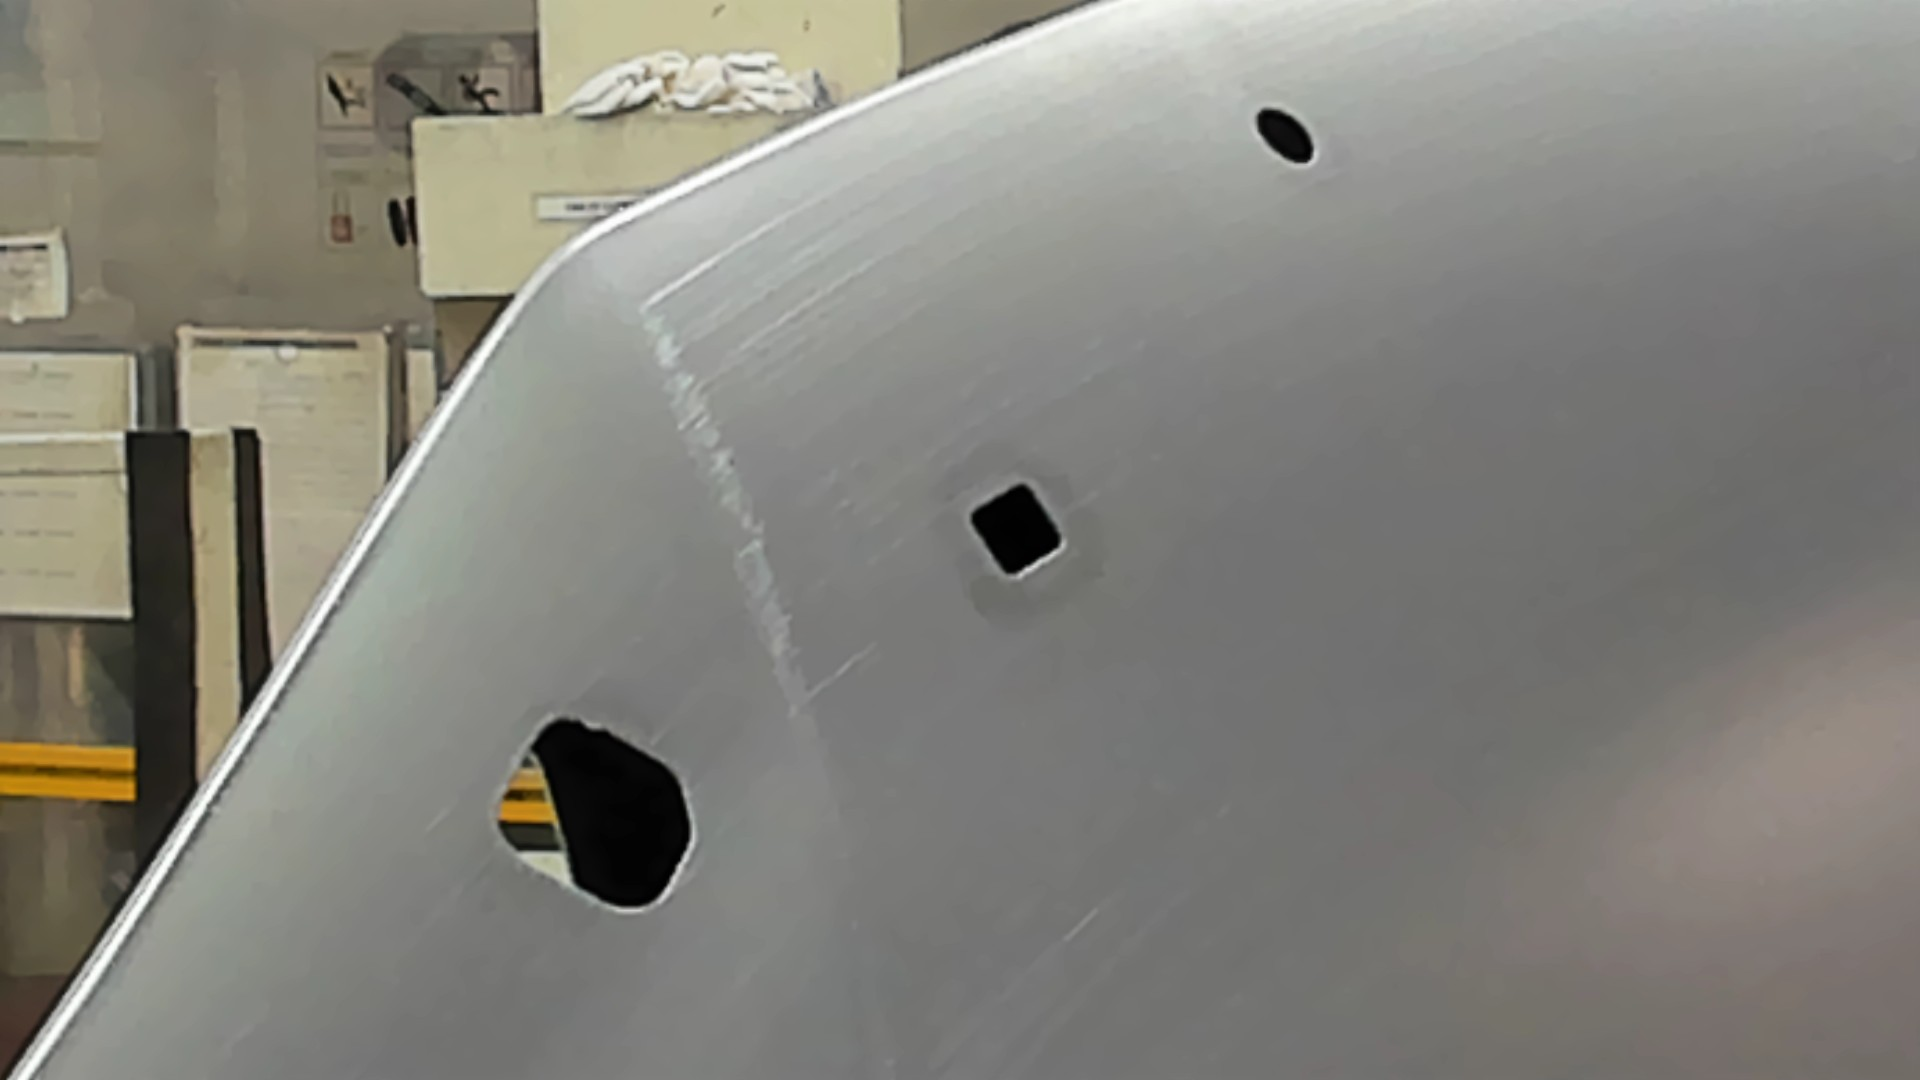capo: (1072, 173, 1920, 1080)
chico: (1247, 99, 1317, 170)
grande: (487, 711, 705, 918)
mediano: (960, 473, 1069, 589)
